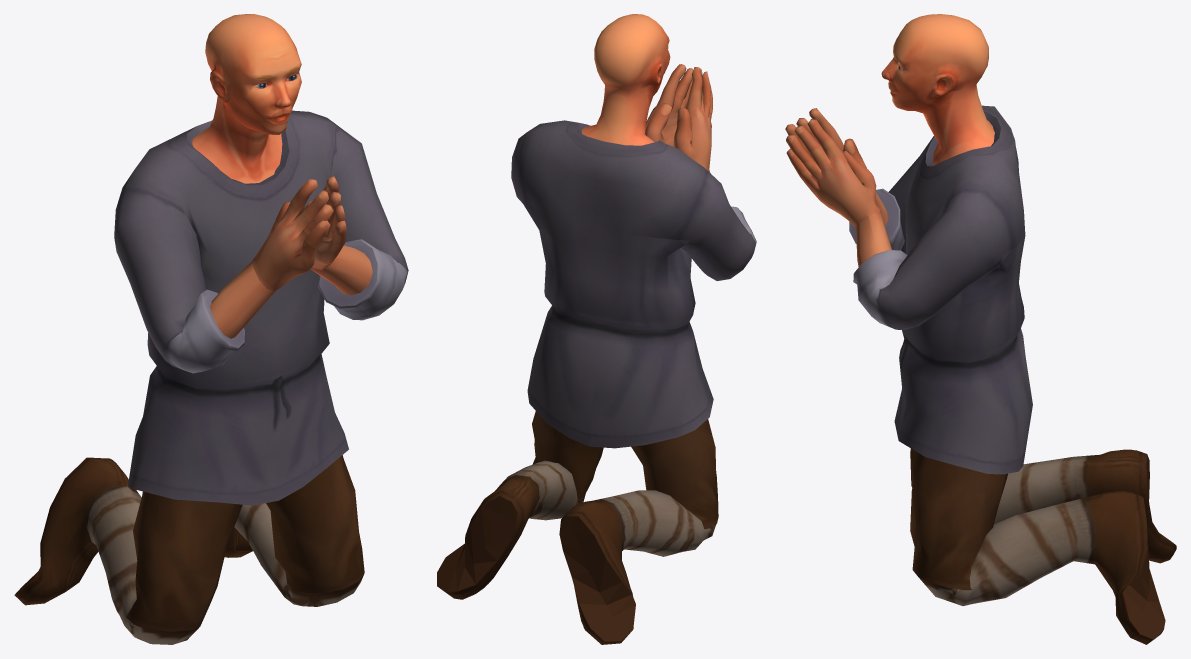
File: VillagerOnKnees.glb
The picture shows the model from 3 angles, left to right: view 1: azimuth 30°, elevation 25°; view 2: azimuth 150°, elevation 25°; view 3: azimuth 270°, elevation 25°; orthographic projection. The views are drawn at different scales.
Visible parts, largest first — view 1: top.003; view 2: top.003; view 3: top.003.
Boxes of the visible parts, x1=… form: top.003: x1=14, y1=14, x2=408, y2=644; top.003: x1=437, y1=14, x2=756, y2=644; top.003: x1=785, y1=14, x2=1176, y2=644.
Size of what is drawn, in the model's own units: 0.5761 by 1.42 by 0.8669.
3 materials, 3 textured.
